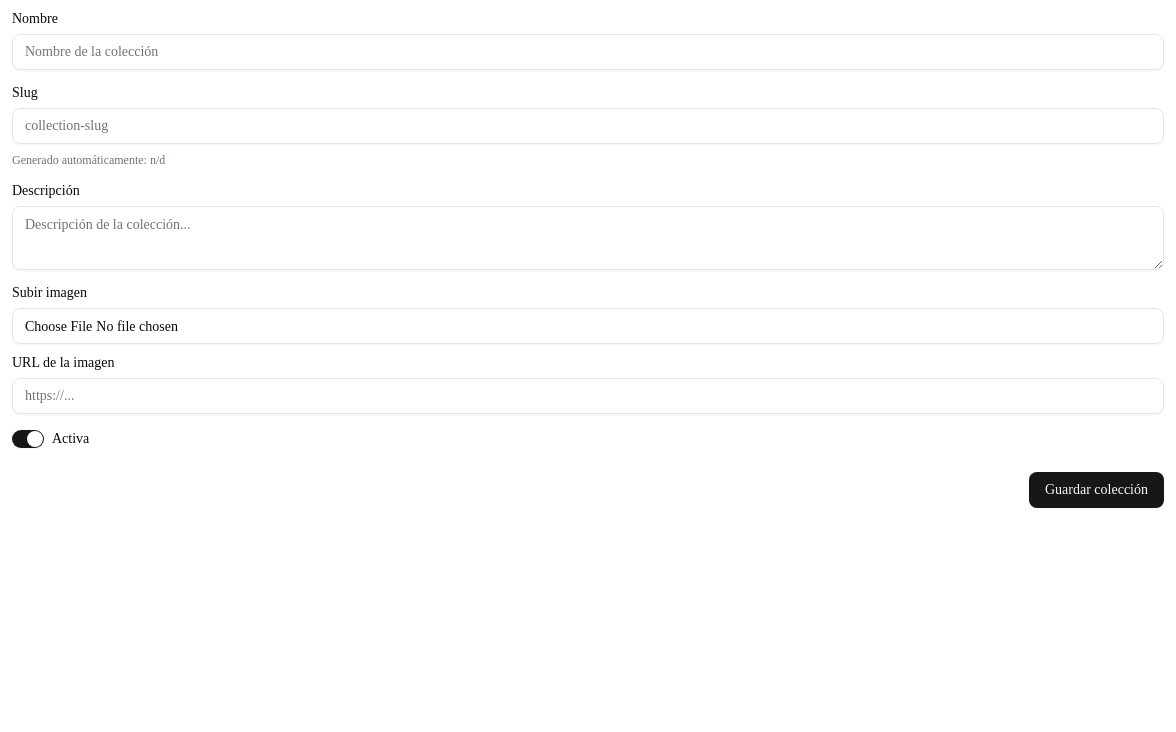
Test case: CollectionForm: image › accepts a pasted image URL and shows it
The image size is (1176, 732).
Type "https://x.test/a.png" into the field labelled "URL de la imagen" at x=588, y=396, box top-left (12, 378), bottom-right (1164, 414)
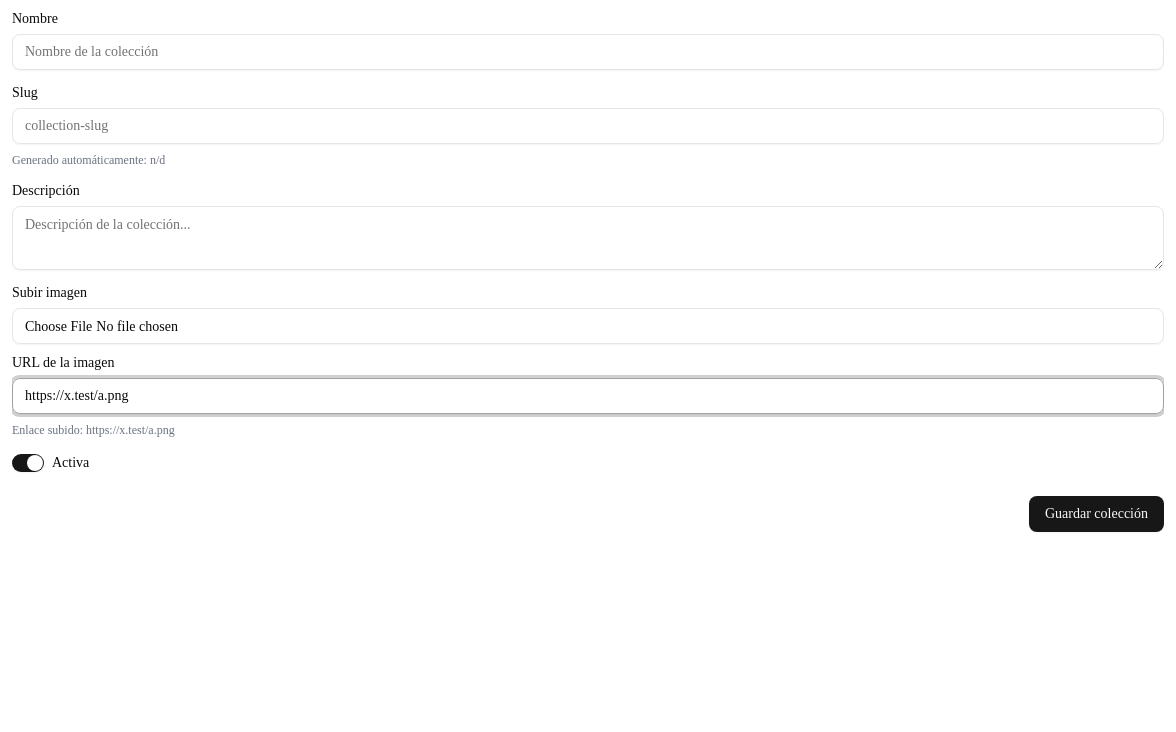
Expected: the text "Enlace subido: https://x.test/a.png" is shown, top-left (12, 423), bottom-right (175, 437)
